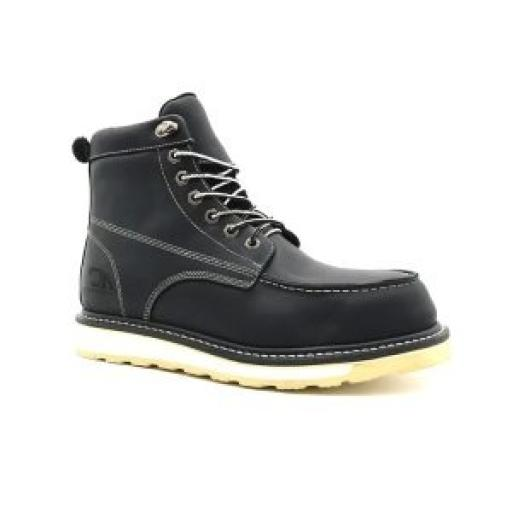safety_boots: (58, 90, 445, 406)
